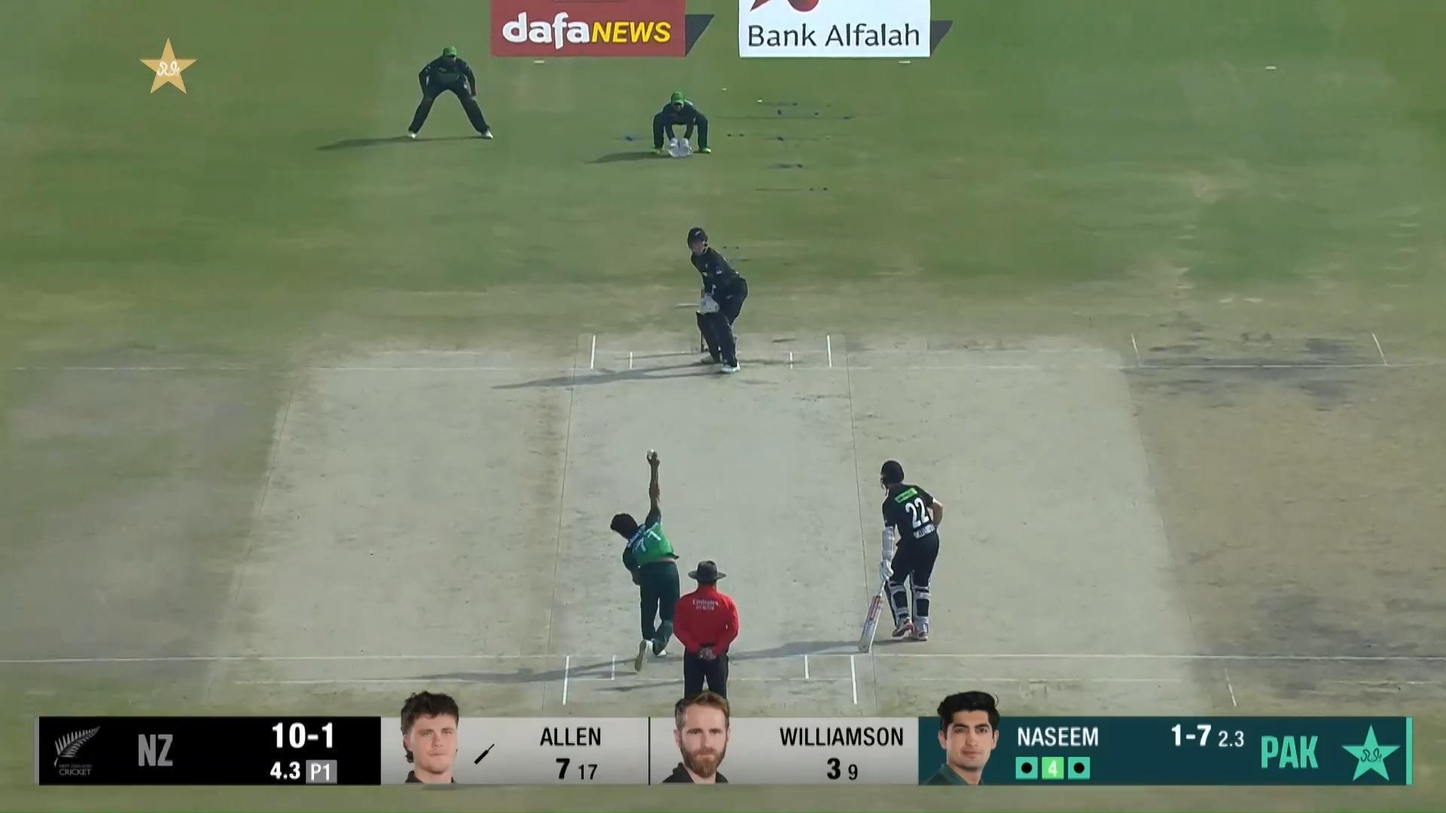BM 1: (672, 227, 748, 375)
BO: (609, 448, 680, 670)
